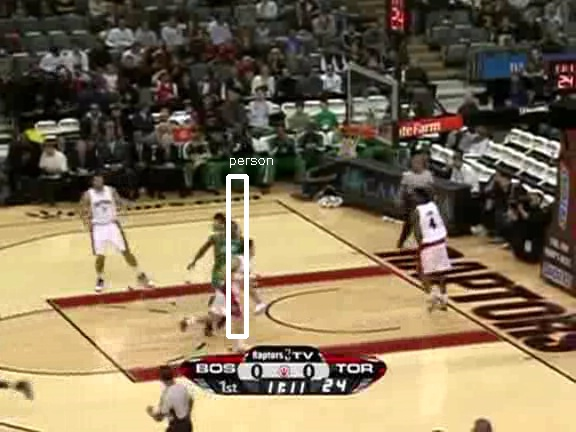person: (209, 222, 243, 303), (208, 222, 242, 303), (210, 222, 244, 303), (209, 221, 243, 302), (209, 223, 243, 304)
target_negative: (130, 56, 175, 401), (216, 333, 493, 384), (83, 346, 236, 431), (30, 370, 409, 386), (514, 130, 552, 236), (416, 23, 538, 24)
